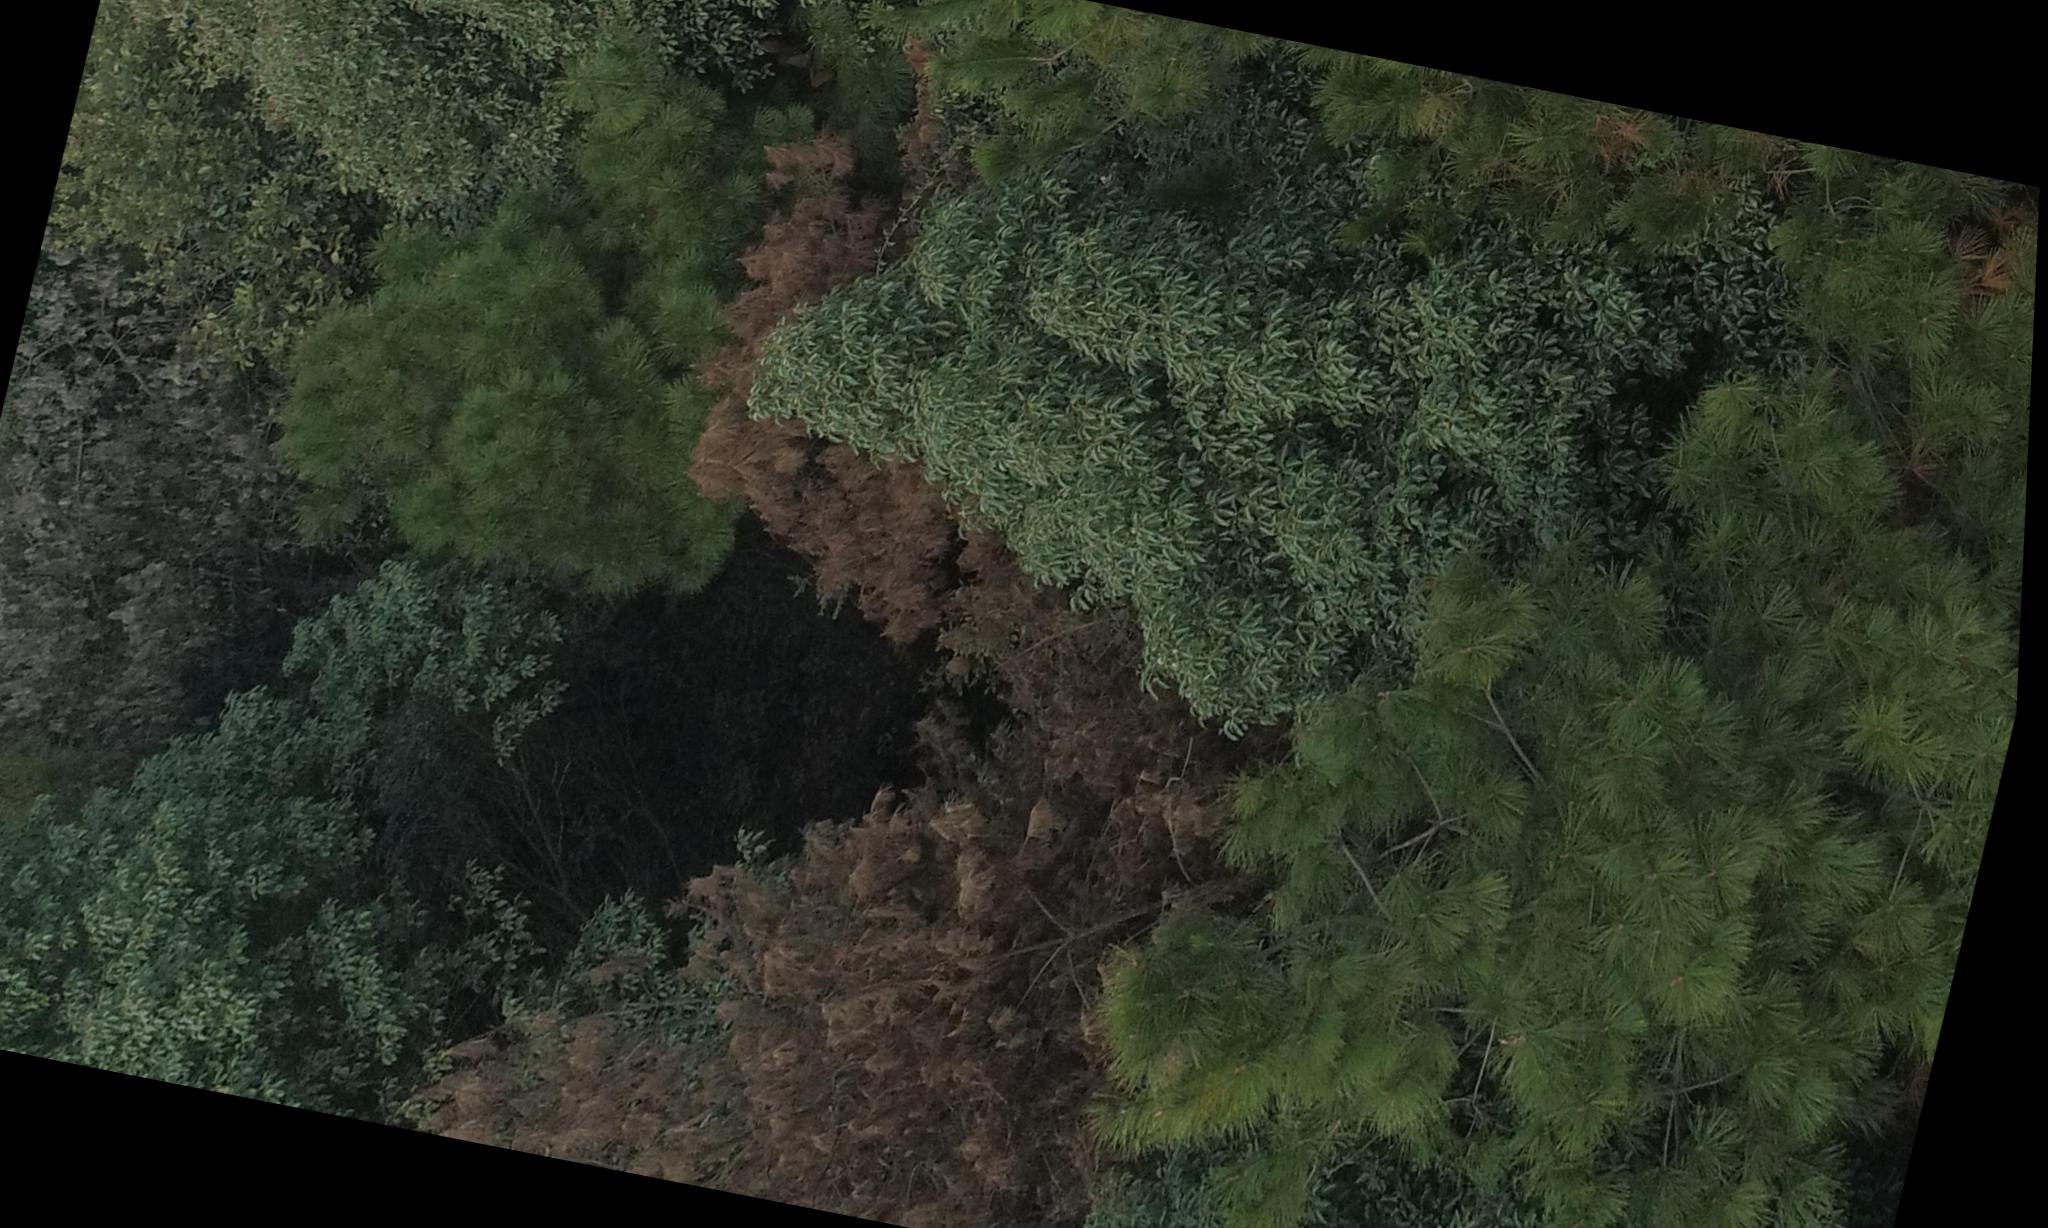heavy: (468, 608, 1275, 1228), (652, 89, 1174, 667)
